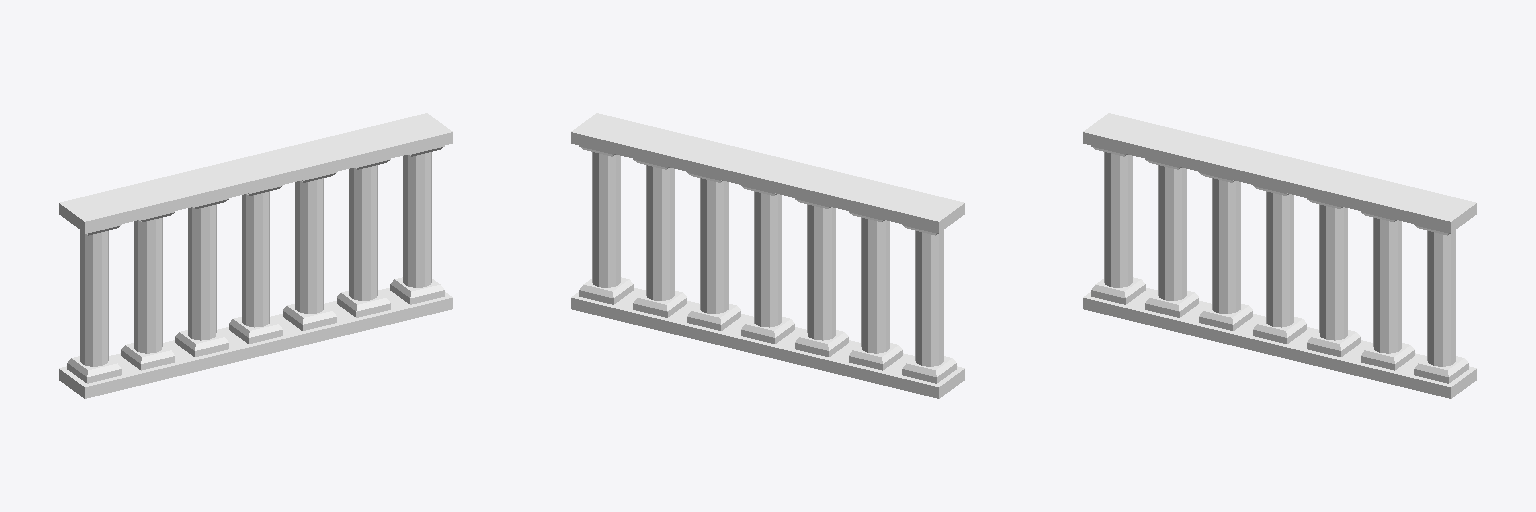
Rendered from array_columnas.obj.
The picture shows the model from 3 angles: view 1: azimuth 30°, elevation 25°; view 2: azimuth 150°, elevation 25°; view 3: azimuth 330°, elevation 25°; orthographic projection.
Visible parts, largest first — view 1: WallColumn; view 2: WallColumn; view 3: WallColumn.
Part boxes in pixels (x1,y1,x2,y2): WallColumn: (59, 113, 452, 398); WallColumn: (571, 113, 964, 398); WallColumn: (1083, 113, 1476, 398).
Bounding box in the file's own units: 12.41 × 5.7 × 1.52.